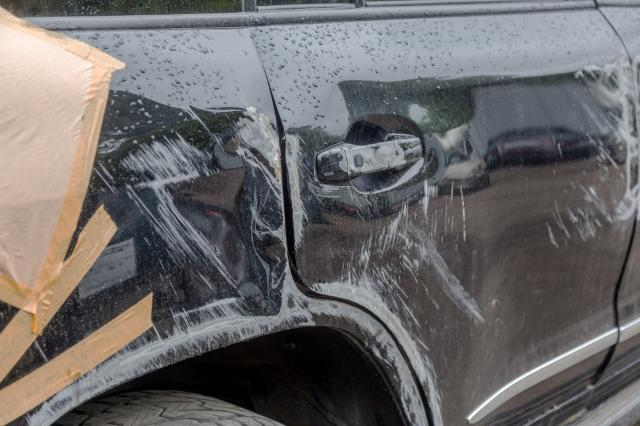dent: (162, 132, 249, 288)
rub: (23, 106, 429, 426), (312, 174, 488, 426)
scratch: (537, 48, 640, 258), (285, 133, 355, 256), (331, 141, 406, 174)
